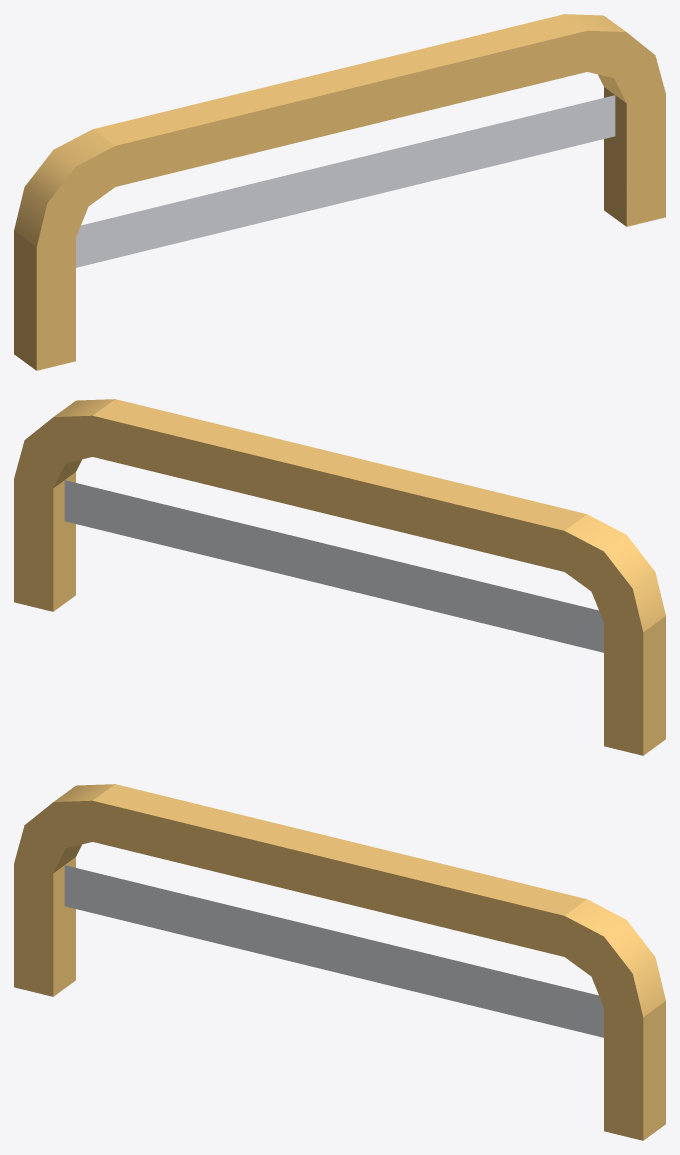
The model's file is rail.glb.
3 views of the same model, one above another, from view 1: azimuth 30°, elevation 25°; view 2: azimuth 150°, elevation 25°; view 3: azimuth 330°, elevation 25° (orthographic).
Parts seen in each view (by area): view 1: rail; view 2: rail; view 3: rail.
Part boxes in pixels (x1=…): rail: x1=14, y1=14, x2=665, y2=370; rail: x1=14, y1=399, x2=665, y2=755; rail: x1=14, y1=784, x2=665, y2=1140.
Size of the model in its own units: 0.8 by 0.25 by 0.05.
